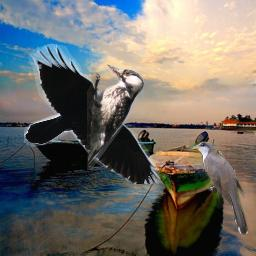Crow: (24, 43, 161, 184)
Cuckoo: (189, 140, 250, 237)
Woodpecker: (87, 63, 144, 170)
